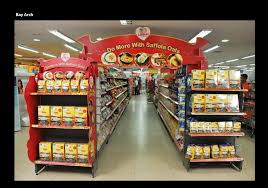other: (29, 9, 88, 21)
